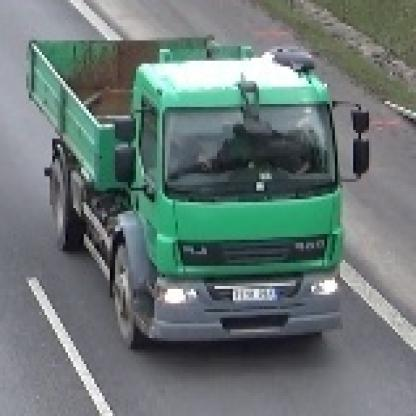truck: (22, 24, 370, 351)
